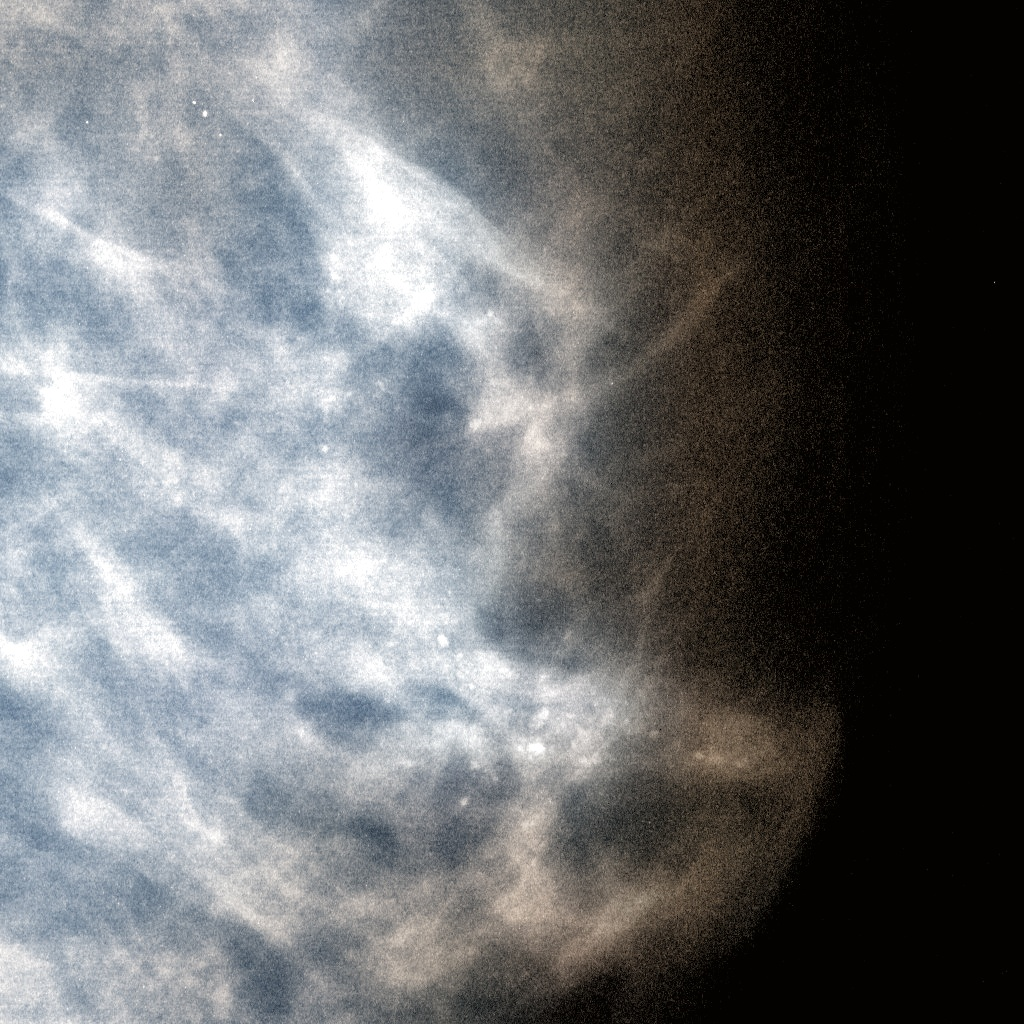tumor: (239, 149, 785, 875)
